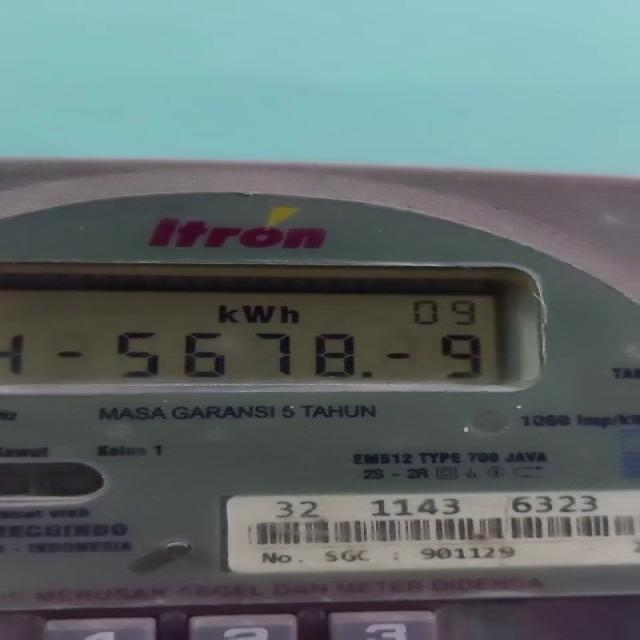LCD: (7, 251, 554, 407)
